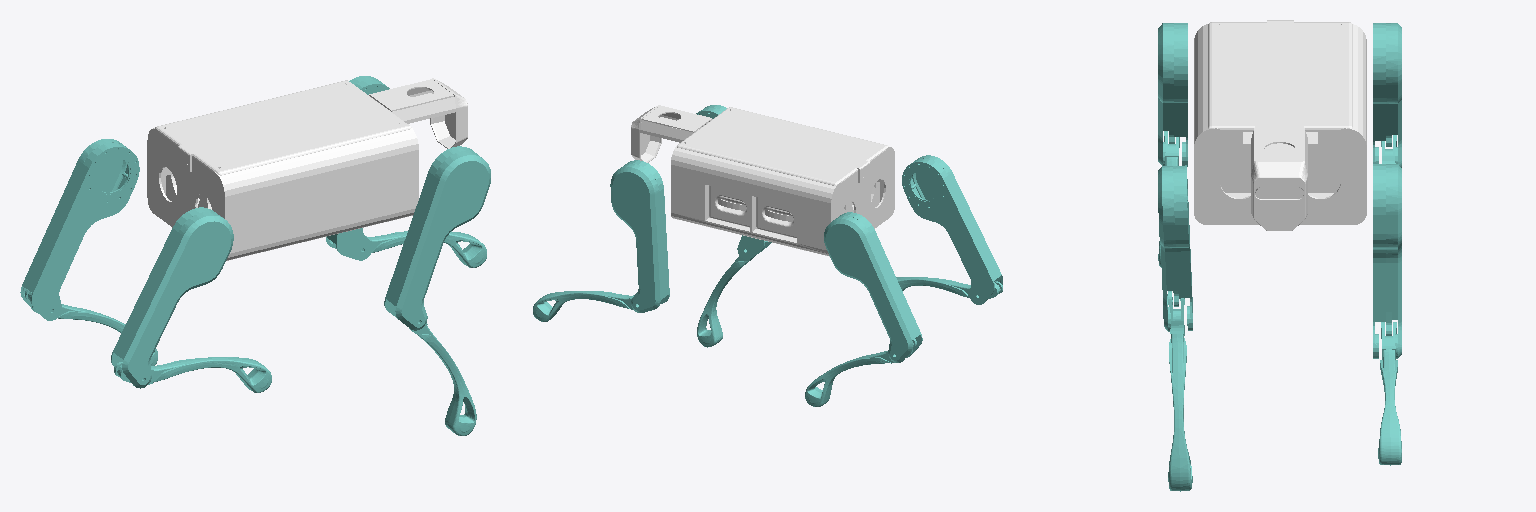
URDF robot description (dog1):
<?xml version="1.0" encoding="utf-8"?>
<!-- This URDF was automatically created by SolidWorks to URDF Exporter! Originally created by Stephen Brawner (brawner@gmail.com) 
     Commit Version: 1.6.0-4-g7f85cfe  Build Version: 1.6.7995.38578
     For more information, please see http://wiki.ros.org/sw_urdf_exporter -->
<robot
  name="dog1">
  <link
    name="base_link">
    <inertial>
      <origin
        xyz="0.0029114 0.0090469 0.098327"
        rpy="0 0 0" />
      <mass
        value="13.967" />
      <inertia
        ixx="0.13646"
        ixy="-9.7018E-05"
        ixz="0.00035665"
        iyy="0.17183"
        iyz="-0.00092667"
        izz="0.2882" />
    </inertial>
    <visual>
      <origin
        xyz="0 0 0"
        rpy="0 0 0" />
      <geometry>
        <mesh
          filename="package://dog1/meshes/base_link.STL" />
      </geometry>
      <material
        name="">
        <color
          rgba="1 1 1 1" />
      </material>
    </visual>
    <collision>
      <origin
        xyz="0 0 0"
        rpy="0 0 0" />
      <geometry>
        <mesh
          filename="package://dog1/meshes/base_link.STL" />
      </geometry>
    </collision>
  </link>
  <link
    name="Link_fr_hip">
    <inertial>
      <origin
        xyz="0.050025 -0.02751 -0.00086592"
        rpy="0 0 0" />
      <mass
        value="5.2076" />
      <inertia
        ixx="0.0065222"
        ixy="-1.939E-06"
        ixz="2.8978E-05"
        iyy="0.0084515"
        iyz="0.00011498"
        izz="0.0050549" />
    </inertial>
    <visual>
      <origin
        xyz="0 0 0"
        rpy="0 0 0" />
      <geometry>
        <mesh
          filename="package://dog1/meshes/Link_fr_hip.STL" />
      </geometry>
      <material
        name="">
        <color
          rgba="0.75294 0.75294 0.75294 1" />
      </material>
    </visual>
    <collision>
      <origin
        xyz="0 0 0"
        rpy="0 0 0" />
      <geometry>
        <mesh
          filename="package://dog1/meshes/Link_fr_hip.STL" />
      </geometry>
    </collision>
  </link>
  <joint
    name="joint_fr_hip"
    type="revolute">
    <origin
      xyz="0.225 -0.075 0.09"
      rpy="0 0 0" />
    <parent
      link="base_link" />
    <child
      link="Link_fr_hip" />
    <axis
      xyz="1 0 0" />
    <limit
      lower="0"
      upper="0"
      effort="0"
      velocity="0" />
  </joint>
  <link
    name="Link_fr_thigh">
    <inertial>
      <origin
        xyz="-0.056189 -0.021572 -0.10924"
        rpy="0 0 0" />
      <mass
        value="1.0799" />
      <inertia
        ixx="0.0115"
        ixy="0.0001699"
        ixz="-0.0047945"
        iyy="0.014858"
        iyz="0.00039391"
        izz="0.0034936" />
    </inertial>
    <visual>
      <origin
        xyz="0 0 0"
        rpy="0 0 0" />
      <geometry>
        <mesh
          filename="package://dog1/meshes/Link_fr_thigh.STL" />
      </geometry>
      <material
        name="">
        <color
          rgba="0.53333 0.85098 0.82353 1" />
      </material>
    </visual>
    <collision>
      <origin
        xyz="0 0 0"
        rpy="0 0 0" />
      <geometry>
        <mesh
          filename="package://dog1/meshes/Link_fr_thigh.STL" />
      </geometry>
    </collision>
  </link>
  <joint
    name="joint_fr_thigh"
    type="revolute">
    <origin
      xyz="0.082498 -0.098698 -0.003211"
      rpy="0 0 0" />
    <parent
      link="Link_fr_hip" />
    <child
      link="Link_fr_thigh" />
    <axis
      xyz="0 0.99947 0.032517" />
    <limit
      lower="0"
      upper="0"
      effort="0"
      velocity="0" />
  </joint>
  <link
    name="Link_fr_calf">
    <inertial>
      <origin
        xyz="0.078661 0.0033717 -0.15626"
        rpy="0 0 0" />
      <mass
        value="0.68278" />
      <inertia
        ixx="0.0042709"
        ixy="-3.1725E-05"
        ixz="0.0014753"
        iyy="0.0049134"
        iyz="9.2907E-05"
        izz="0.00076574" />
    </inertial>
    <visual>
      <origin
        xyz="0 0 0"
        rpy="0 0 0" />
      <geometry>
        <mesh
          filename="package://dog1/meshes/Link_fr_calf.STL" />
      </geometry>
      <material
        name="">
        <color
          rgba="0.53333 0.85098 0.82353 1" />
      </material>
    </visual>
    <collision>
      <origin
        xyz="0 0 0"
        rpy="0 0 0" />
      <geometry>
        <mesh
          filename="package://dog1/meshes/Link_fr_calf.STL" />
      </geometry>
    </collision>
  </link>
  <joint
    name="joint_fr_calf"
    type="revolute">
    <origin
      xyz="-0.10638 -0.017018 -0.29188"
      rpy="0 0 0" />
    <parent
      link="Link_fr_thigh" />
    <child
      link="Link_fr_calf" />
    <axis
      xyz="0 0.99947 0.032517" />
    <limit
      lower="0"
      upper="0"
      effort="0"
      velocity="0" />
  </joint>
  <link
    name="Link_fl_hip">
    <inertial>
      <origin
        xyz="0.050025 0.027523 -2.9067E-05"
        rpy="0 0 0" />
      <mass
        value="5.2076" />
      <inertia
        ixx="0.0065222"
        ixy="9.957E-07"
        ixz="-2.9026E-05"
        iyy="0.0084554"
        iyz="4.3467E-06"
        izz="0.005051" />
    </inertial>
    <visual>
      <origin
        xyz="0 0 0"
        rpy="0 0 0" />
      <geometry>
        <mesh
          filename="package://dog1/meshes/Link_fl_hip.STL" />
      </geometry>
      <material
        name="">
        <color
          rgba="0.75294 0.75294 0.75294 1" />
      </material>
    </visual>
    <collision>
      <origin
        xyz="0 0 0"
        rpy="0 0 0" />
      <geometry>
        <mesh
          filename="package://dog1/meshes/Link_fl_hip.STL" />
      </geometry>
    </collision>
  </link>
  <joint
    name="joint_fl_hip"
    type="revolute">
    <origin
      xyz="0.225 0.075 0.09"
      rpy="0 0 0" />
    <parent
      link="base_link" />
    <child
      link="Link_fl_hip" />
    <axis
      xyz="1 0 0" />
    <limit
      lower="0"
      upper="0"
      effort="0"
      velocity="0" />
  </joint>
  <link
    name="Link_fl_thigh">
    <inertial>
      <origin
        xyz="-0.023612 0.025112 -0.12115"
        rpy="0 0 0" />
      <mass
        value="1.0799" />
      <inertia
        ixx="0.013482"
        ixy="-6.4816E-06"
        ixz="-0.0017863"
        iyy="0.014871"
        iyz="-2.6756E-05"
        izz="0.0014982" />
    </inertial>
    <visual>
      <origin
        xyz="0 0 0"
        rpy="0 0 0" />
      <geometry>
        <mesh
          filename="package://dog1/meshes/Link_fl_thigh.STL" />
      </geometry>
      <material
        name="">
        <color
          rgba="0.53333 0.85098 0.82353 1" />
      </material>
    </visual>
    <collision>
      <origin
        xyz="0 0 0"
        rpy="0 0 0" />
      <geometry>
        <mesh
          filename="package://dog1/meshes/Link_fl_thigh.STL" />
      </geometry>
    </collision>
  </link>
  <joint
    name="joint_fl_thigh"
    type="revolute">
    <origin
      xyz="0.082498 0.09875 0"
      rpy="0 0 0" />
    <parent
      link="Link_fl_hip" />
    <child
      link="Link_fl_thigh" />
    <axis
      xyz="0 -1 0" />
    <limit
      lower="0"
      upper="0"
      effort="0"
      velocity="0" />
  </joint>
  <link
    name="Link_fl_calf">
    <inertial>
      <origin
        xyz="0.17024 0.0017114 -0.04039"
        rpy="0 0 0" />
      <mass
        value="0.68278" />
      <inertia
        ixx="0.00076312"
        ixy="-4.2679E-05"
        ixz="0.0014744"
        iyy="0.0049149"
        iyz="1.4641E-05"
        izz="0.0042717" />
    </inertial>
    <visual>
      <origin
        xyz="0 0 0"
        rpy="0 0 0" />
      <geometry>
        <mesh
          filename="package://dog1/meshes/Link_fl_calf.STL" />
      </geometry>
      <material
        name="">
        <color
          rgba="0.53333 0.85098 0.82353 1" />
      </material>
    </visual>
    <collision>
      <origin
        xyz="0 0 0"
        rpy="0 0 0" />
      <geometry>
        <mesh
          filename="package://dog1/meshes/Link_fl_calf.STL" />
      </geometry>
    </collision>
  </link>
  <joint
    name="joint_fl_calf"
    type="revolute">
    <origin
      xyz="-0.017956 0.0265 -0.30948"
      rpy="0 0 0" />
    <parent
      link="Link_fl_thigh" />
    <child
      link="Link_fl_calf" />
    <axis
      xyz="0 -1 0" />
    <limit
      lower="0"
      upper="0"
      effort="0"
      velocity="0" />
  </joint>
  <link
    name="Link_hl_hip">
    <inertial>
      <origin
        xyz="-0.050025 0.027523 2.9067E-05"
        rpy="0 0 0" />
      <mass
        value="5.2076" />
      <inertia
        ixx="0.0065222"
        ixy="-9.957E-07"
        ixz="-2.9026E-05"
        iyy="0.0084554"
        iyz="-4.3467E-06"
        izz="0.005051" />
    </inertial>
    <visual>
      <origin
        xyz="0 0 0"
        rpy="0 0 0" />
      <geometry>
        <mesh
          filename="package://dog1/meshes/Link_hl_hip.STL" />
      </geometry>
      <material
        name="">
        <color
          rgba="0.75294 0.75294 0.75294 1" />
      </material>
    </visual>
    <collision>
      <origin
        xyz="0 0 0"
        rpy="0 0 0" />
      <geometry>
        <mesh
          filename="package://dog1/meshes/Link_hl_hip.STL" />
      </geometry>
    </collision>
  </link>
  <joint
    name="joint_hl_hip"
    type="revolute">
    <origin
      xyz="-0.225 0.075 0.09"
      rpy="0 0 0" />
    <parent
      link="base_link" />
    <child
      link="Link_hl_hip" />
    <axis
      xyz="-1 0 0" />
    <limit
      lower="0"
      upper="0"
      effort="0"
      velocity="0" />
  </joint>
  <link
    name="Link_hl_thigh">
    <inertial>
      <origin
        xyz="-0.071808 0.025112 -0.10067"
        rpy="0 0 0" />
      <mass
        value="1.0799" />
      <inertia
        ixx="0.010084"
        ixy="-1.6972E-05"
        ixz="-0.005689"
        iyy="0.014871"
        iyz="-2.1675E-05"
        izz="0.0048961" />
    </inertial>
    <visual>
      <origin
        xyz="0 0 0"
        rpy="0 0 0" />
      <geometry>
        <mesh
          filename="package://dog1/meshes/Link_hl_thigh.STL" />
      </geometry>
      <material
        name="">
        <color
          rgba="0.53333 0.85098 0.82353 1" />
      </material>
    </visual>
    <collision>
      <origin
        xyz="0 0 0"
        rpy="0 0 0" />
      <geometry>
        <mesh
          filename="package://dog1/meshes/Link_hl_thigh.STL" />
      </geometry>
    </collision>
  </link>
  <joint
    name="joint_hl_thigh"
    type="revolute">
    <origin
      xyz="-0.082498 0.09875 0"
      rpy="0 0 0" />
    <parent
      link="Link_hl_hip" />
    <child
      link="Link_hl_thigh" />
    <axis
      xyz="0 -1 0" />
    <limit
      lower="0"
      upper="0"
      effort="0"
      velocity="0" />
  </joint>
  <link
    name="Link_hl_calf">
    <inertial>
      <origin
        xyz="0.14726 0.0017103 -0.094532"
        rpy="0 0 0" />
      <mass
        value="0.68296" />
      <inertia
        ixx="0.0020701"
        ixy="-3.5417E-05"
        ixz="0.0022475"
        iyy="0.0049149"
        iyz="2.7954E-05"
        izz="0.0029648" />
    </inertial>
    <visual>
      <origin
        xyz="0 0 0"
        rpy="0 0 0" />
      <geometry>
        <mesh
          filename="package://dog1/meshes/Link_hl_calf.STL" />
      </geometry>
      <material
        name="">
        <color
          rgba="0.53333 0.85098 0.82353 1" />
      </material>
    </visual>
    <collision>
      <origin
        xyz="0 0 0"
        rpy="0 0 0" />
      <geometry>
        <mesh
          filename="package://dog1/meshes/Link_hl_calf.STL" />
      </geometry>
    </collision>
  </link>
  <joint
    name="joint_hl_calf"
    type="revolute">
    <origin
      xyz="-0.14441 0.0265 -0.27431"
      rpy="0 0 0" />
    <parent
      link="Link_hl_thigh" />
    <child
      link="Link_hl_calf" />
    <axis
      xyz="0 -1 0" />
    <limit
      lower="0"
      upper="0"
      effort="0"
      velocity="0" />
  </joint>
  <link
    name="Link_hr_hip">
    <inertial>
      <origin
        xyz="-0.050025 -0.027523 -2.9067E-05"
        rpy="0 0 0" />
      <mass
        value="5.2076" />
      <inertia
        ixx="0.0065222"
        ixy="9.957E-07"
        ixz="2.9026E-05"
        iyy="0.0084554"
        iyz="-4.3467E-06"
        izz="0.005051" />
    </inertial>
    <visual>
      <origin
        xyz="0 0 0"
        rpy="0 0 0" />
      <geometry>
        <mesh
          filename="package://dog1/meshes/Link_hr_hip.STL" />
      </geometry>
      <material
        name="">
        <color
          rgba="0.75294 0.75294 0.75294 1" />
      </material>
    </visual>
    <collision>
      <origin
        xyz="0 0 0"
        rpy="0 0 0" />
      <geometry>
        <mesh
          filename="package://dog1/meshes/Link_hr_hip.STL" />
      </geometry>
    </collision>
  </link>
  <joint
    name="joint_hr_hip"
    type="revolute">
    <origin
      xyz="-0.225 -0.075 0.09"
      rpy="0 0 0" />
    <parent
      link="base_link" />
    <child
      link="Link_hr_hip" />
    <axis
      xyz="-1 0 0" />
    <limit
      lower="0"
      upper="0"
      effort="0"
      velocity="0" />
  </joint>
  <link
    name="Link_hr_thigh">
    <inertial>
      <origin
        xyz="-0.076128 -0.025113 -0.098839"
        rpy="0 0 0" />
      <mass
        value="1.0799" />
      <inertia
        ixx="0.0096602"
        ixy="1.7747E-05"
        ixz="-0.0058637"
        iyy="0.014871"
        iyz="2.1024E-05"
        izz="0.00532" />
    </inertial>
    <visual>
      <origin
        xyz="0 0 0"
        rpy="0 0 0" />
      <geometry>
        <mesh
          filename="package://dog1/meshes/Link_hr_thigh.STL" />
      </geometry>
      <material
        name="">
        <color
          rgba="0.53333 0.85098 0.82353 1" />
      </material>
    </visual>
    <collision>
      <origin
        xyz="0 0 0"
        rpy="0 0 0" />
      <geometry>
        <mesh
          filename="package://dog1/meshes/Link_hr_thigh.STL" />
      </geometry>
    </collision>
  </link>
  <joint
    name="joint_hr_thigh"
    type="revolute">
    <origin
      xyz="-0.082498 -0.09875 0"
      rpy="0 0 0" />
    <parent
      link="Link_hr_hip" />
    <child
      link="Link_hr_thigh" />
    <axis
      xyz="0 1 0" />
    <limit
      lower="0"
      upper="0"
      effort="0"
      velocity="0" />
  </joint>
  <link
    name="Link_hr_calf">
    <inertial>
      <origin
        xyz="0.17192 -0.0017111 -0.032507"
        rpy="0 0 0" />
      <mass
        value="0.68278" />
      <inertia
        ixx="0.0006349"
        ixy="4.3302E-05"
        ixz="0.0013067"
        iyy="0.004915"
        iyz="-1.2659E-05"
        izz="0.0044" />
    </inertial>
    <visual>
      <origin
        xyz="0 0 0"
        rpy="0 0 0" />
      <geometry>
        <mesh
          filename="package://dog1/meshes/Link_hr_calf.STL" />
      </geometry>
      <material
        name="">
        <color
          rgba="0.53333 0.85098 0.82353 1" />
      </material>
    </visual>
    <collision>
      <origin
        xyz="0 0 0"
        rpy="0 0 0" />
      <geometry>
        <mesh
          filename="package://dog1/meshes/Link_hr_calf.STL" />
      </geometry>
    </collision>
  </link>
  <joint
    name="joint_hr_calf"
    type="revolute">
    <origin
      xyz="-0.15438 -0.0265 -0.26883"
      rpy="0 0 0" />
    <parent
      link="Link_hr_thigh" />
    <child
      link="Link_hr_calf" />
    <axis
      xyz="0 1 0" />
    <limit
      lower="0"
      upper="0"
      effort="0"
      velocity="0" />
  </joint>
</robot>

--- What the picture shows (computed from the rendered views, not written in the file) ---
The picture shows the robot from 3 angles, left to right: view 1: azimuth 30°, elevation 25°; view 2: azimuth 150°, elevation 25°; view 3: azimuth 270°, elevation 25°; orthographic projection.
Robot: dog1 — 13 links, 12 joints (12 revolute); root link base_link; default pose: all joints at 0.
Visible links, largest first — view 1: base_link, Link_hr_thigh, Link_hl_thigh, Link_fr_thigh, Link_hr_calf, Link_fr_calf, Link_fl_calf, Link_fl_thigh, Link_hl_calf; view 2: base_link, Link_hl_thigh, Link_hr_thigh, Link_fl_thigh, Link_fl_calf, Link_fr_calf, Link_hl_calf, Link_hr_calf, Link_fr_thigh; view 3: base_link, Link_fl_thigh, Link_fr_thigh, Link_hr_thigh, Link_hl_thigh, Link_fr_calf, Link_fl_calf.
Link boxes in pixels (x1,y1,x2,y2): base_link: (147, 78, 467, 260); Link_hr_thigh: (111, 207, 233, 388); Link_hl_thigh: (20, 139, 139, 320); Link_fr_thigh: (384, 146, 490, 330); Link_hr_calf: (114, 357, 271, 392); Link_fr_calf: (409, 321, 476, 435); Link_fl_calf: (333, 231, 486, 267); Link_fl_thigh: (326, 76, 389, 260); Link_hl_calf: (25, 289, 157, 365); base_link: (631, 105, 894, 256); Link_hl_thigh: (824, 212, 922, 362); Link_hr_thigh: (902, 155, 1002, 304); Link_fl_thigh: (610, 160, 669, 312); Link_fl_calf: (533, 291, 638, 321); Link_fr_calf: (697, 249, 755, 347); Link_hl_calf: (805, 339, 916, 406); Link_hr_calf: (896, 277, 1002, 298); Link_fr_thigh: (696, 105, 771, 259); base_link: (1194, 20, 1366, 230); Link_fl_thigh: (1373, 164, 1401, 358); Link_fr_thigh: (1158, 165, 1192, 331); Link_hr_thigh: (1158, 23, 1187, 166); Link_hl_thigh: (1373, 23, 1401, 167); Link_fr_calf: (1168, 291, 1192, 491); Link_fl_calf: (1378, 322, 1401, 465).
Size in the robot's own frame: 1.11 by 0.4522 by 0.7015 metres.
9 mesh visuals loaded from 13 distinct referenced files (9 binary STL); not drawn: 4 (file found but could not be loaded).
